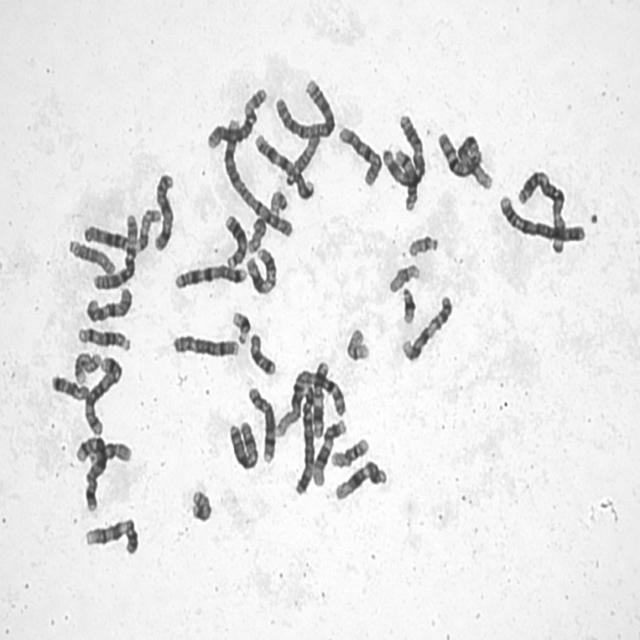A1: (272, 362, 349, 439), (434, 126, 494, 192)
A2: (220, 111, 294, 239), (271, 74, 336, 142)
A3: (514, 166, 567, 256), (379, 109, 427, 189)
B4: (496, 190, 587, 246), (296, 388, 320, 494)
B5: (81, 351, 124, 437), (73, 432, 110, 515)
C10: (336, 122, 384, 188), (82, 282, 134, 324)
C11: (243, 243, 279, 297), (310, 356, 331, 440)
C12: (310, 415, 348, 488), (332, 456, 389, 503)
C6: (203, 83, 269, 151), (90, 210, 140, 292)
C7: (252, 130, 316, 202), (171, 260, 249, 292)
C8: (245, 382, 278, 465), (169, 330, 241, 360)
C9: (398, 292, 454, 364), (81, 513, 140, 557)
D13: (221, 210, 248, 270), (84, 222, 138, 251)
D14: (75, 322, 132, 353), (394, 148, 420, 212)
D15: (281, 130, 322, 188), (66, 235, 118, 276)
E16: (329, 434, 371, 469), (87, 443, 135, 473)
E17: (70, 347, 103, 386), (135, 207, 163, 249)
E18: (246, 330, 277, 378), (48, 370, 91, 403)
F19: (386, 260, 422, 294), (343, 324, 371, 362)
F20: (188, 485, 213, 524), (245, 213, 268, 255)
G21: (228, 307, 252, 345), (398, 283, 417, 326)
G22: (406, 231, 440, 258), (266, 186, 289, 216)
X: (150, 168, 176, 253), (225, 417, 261, 472)
